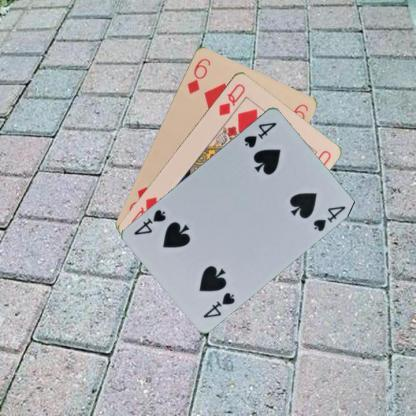4s: (241, 119, 278, 149), (200, 289, 236, 318)
6d: (184, 55, 212, 95)
Qd: (216, 80, 247, 118)
